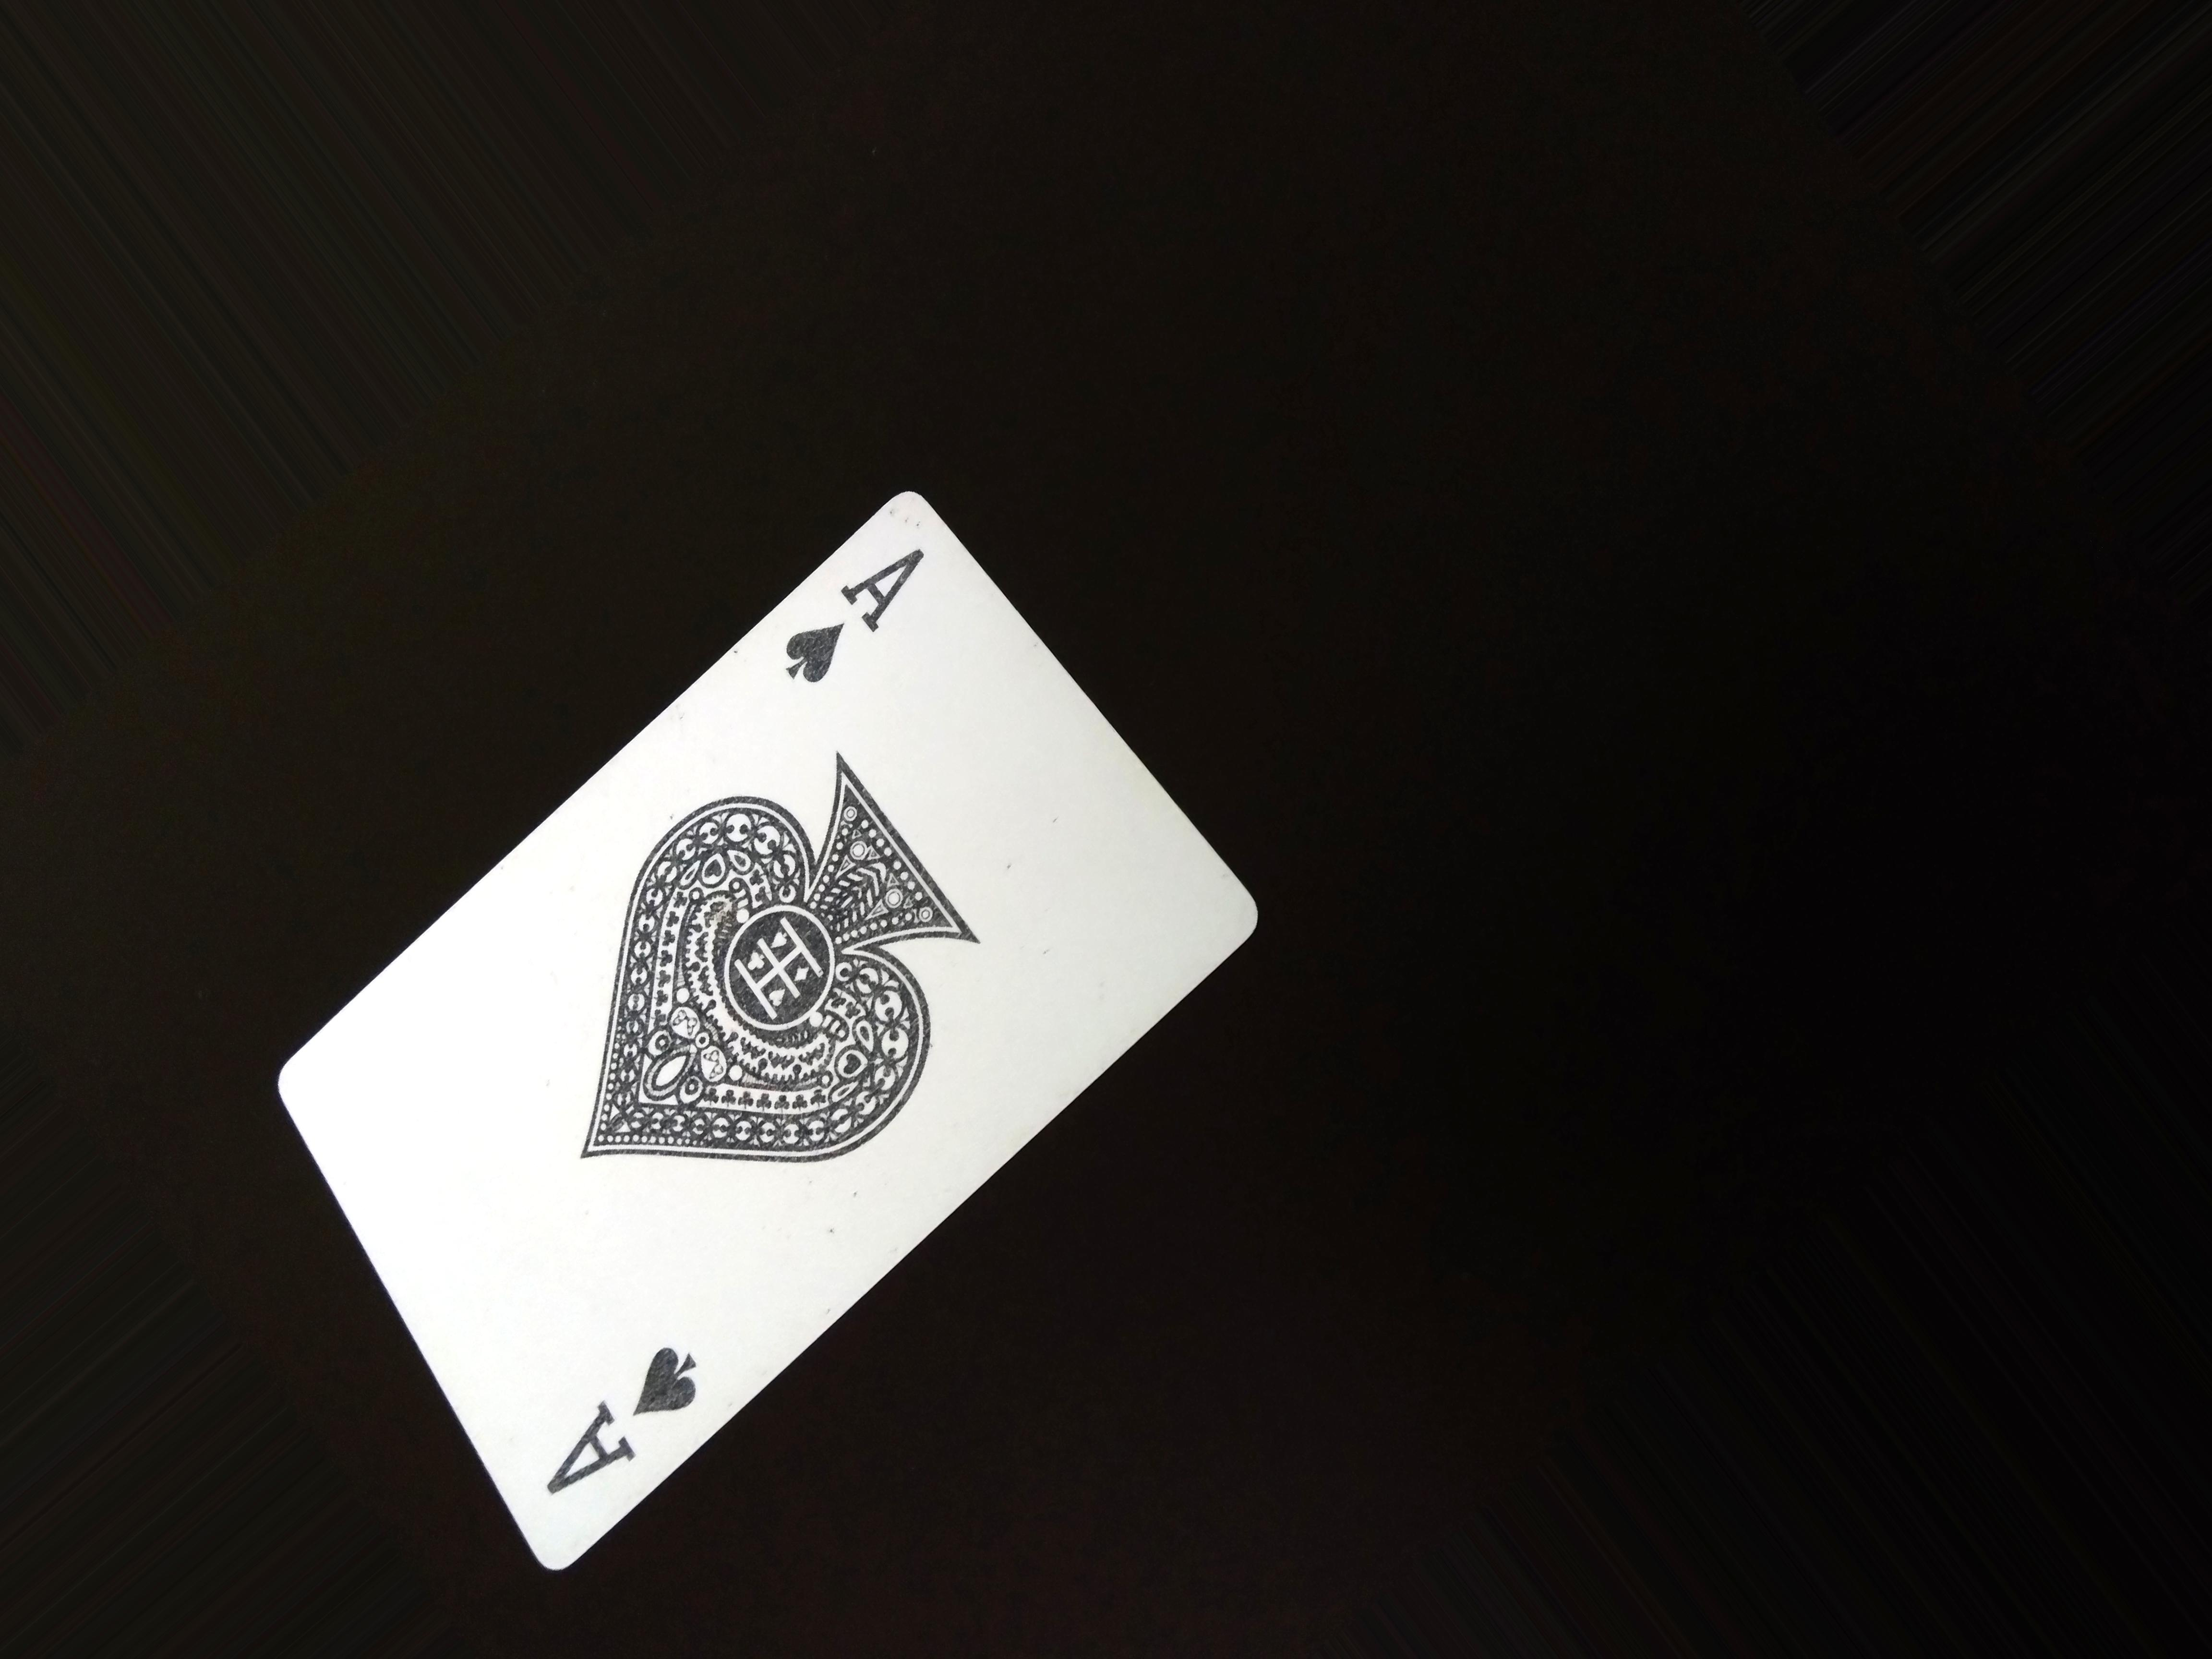AS: (784, 535, 944, 692)
